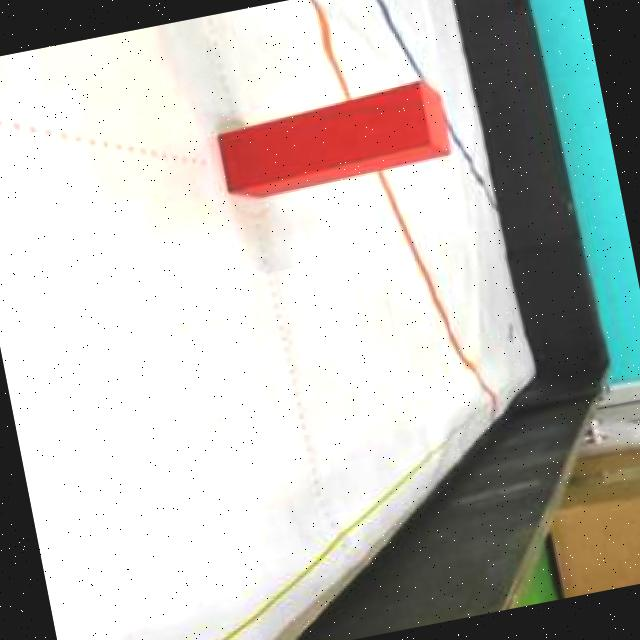redbox: (212, 74, 458, 205)
